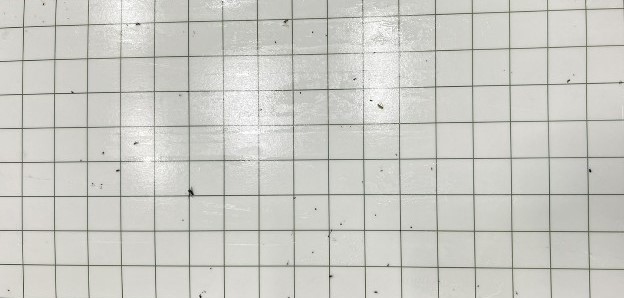fly: (185, 185, 198, 198)
test: (376, 102, 385, 111), (281, 18, 289, 25), (134, 21, 142, 28), (566, 76, 573, 84), (617, 79, 624, 87), (70, 88, 77, 95), (327, 273, 334, 280), (371, 49, 378, 56), (385, 261, 391, 269), (40, 1, 48, 7), (115, 167, 121, 174), (285, 260, 291, 267), (409, 224, 415, 231), (367, 97, 374, 103), (352, 76, 359, 82), (587, 167, 593, 174), (133, 140, 139, 146), (177, 92, 183, 98), (292, 195, 298, 201), (326, 234, 332, 240), (475, 283, 481, 289), (79, 158, 84, 164), (298, 90, 303, 96), (310, 250, 316, 255), (209, 266, 214, 272), (394, 151, 399, 157), (514, 291, 520, 296), (101, 150, 106, 155), (90, 181, 95, 186), (180, 218, 185, 223), (339, 221, 344, 226), (197, 293, 202, 298), (373, 289, 378, 294), (379, 168, 384, 173), (429, 166, 434, 171), (310, 30, 315, 35), (259, 106, 263, 112), (340, 124, 344, 130), (373, 213, 379, 217), (314, 206, 318, 211), (349, 124, 353, 129), (6, 288, 11, 292), (287, 294, 292, 298), (361, 179, 365, 184), (273, 39, 277, 44), (324, 33, 328, 38), (425, 58, 429, 63), (330, 229, 334, 233), (437, 279, 441, 283), (99, 183, 104, 186)
